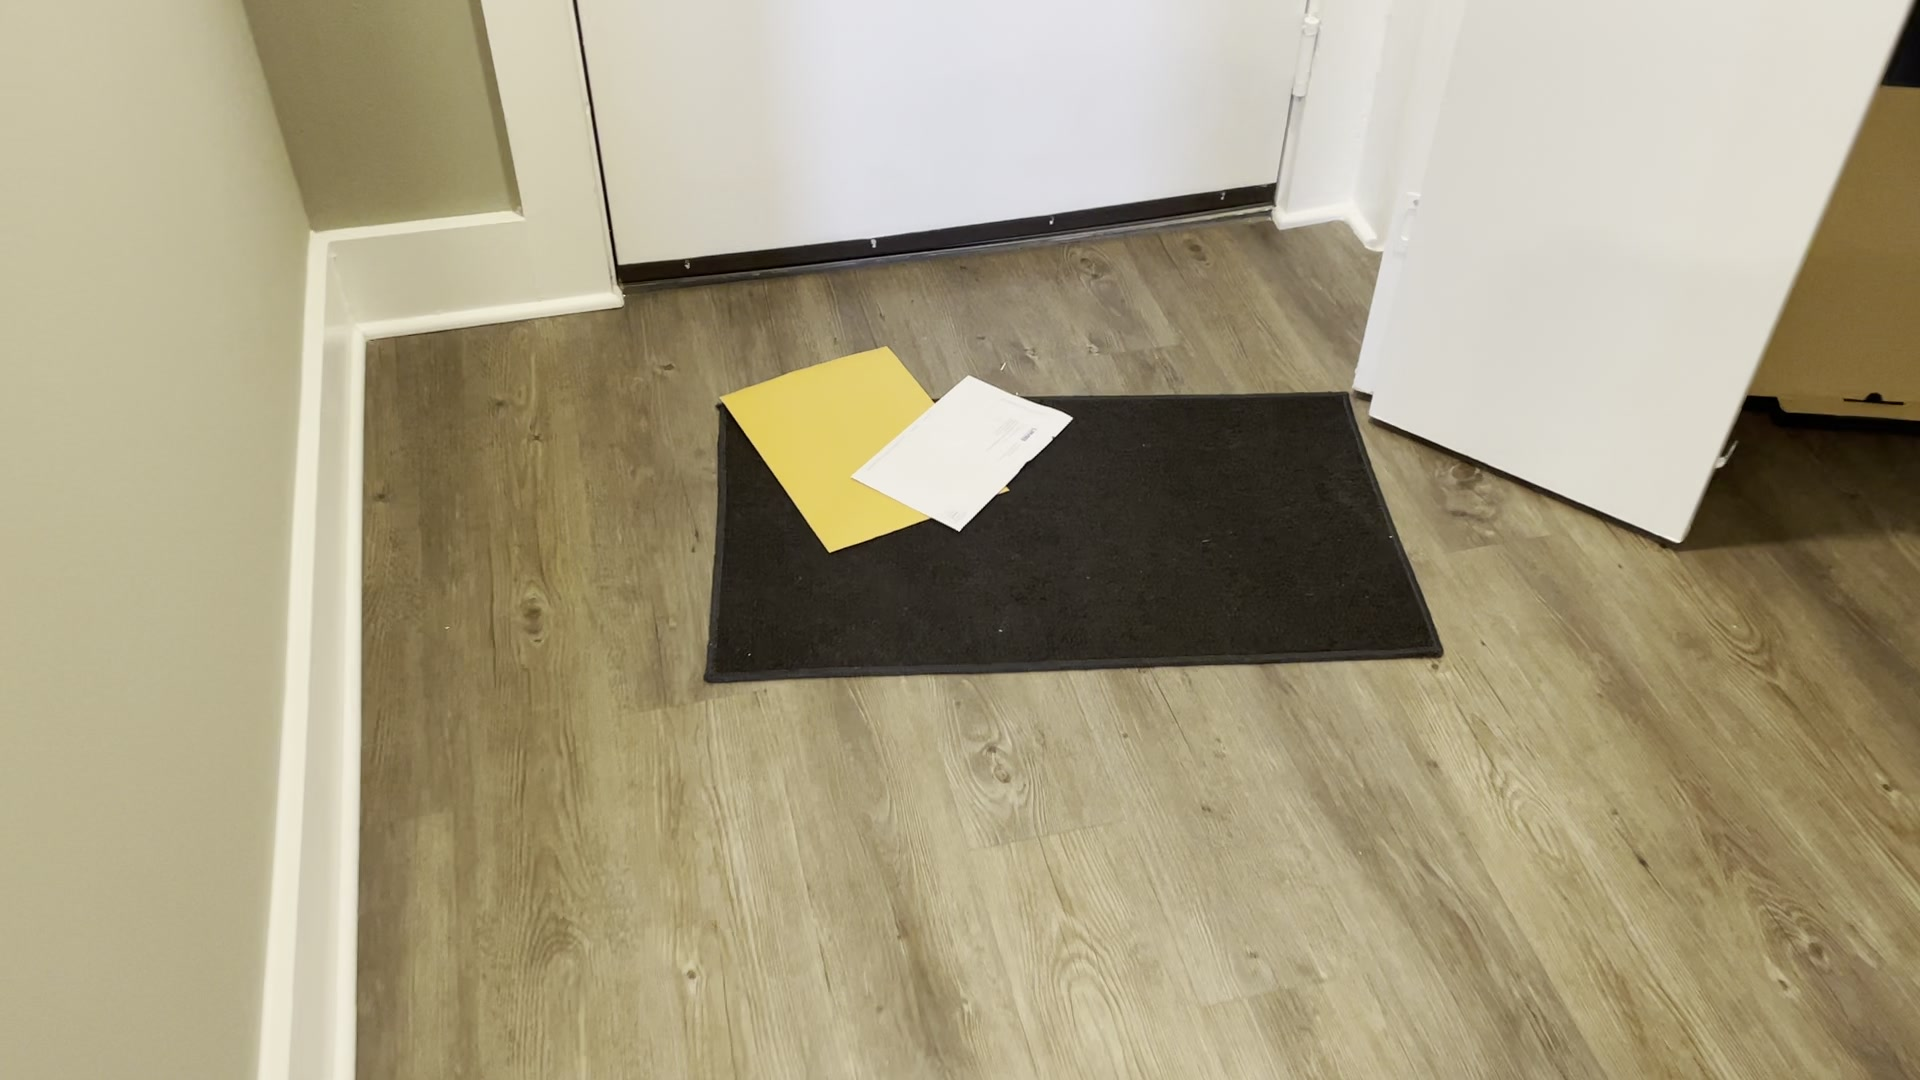envelope: (709, 344, 935, 556), (839, 378, 1073, 533)
